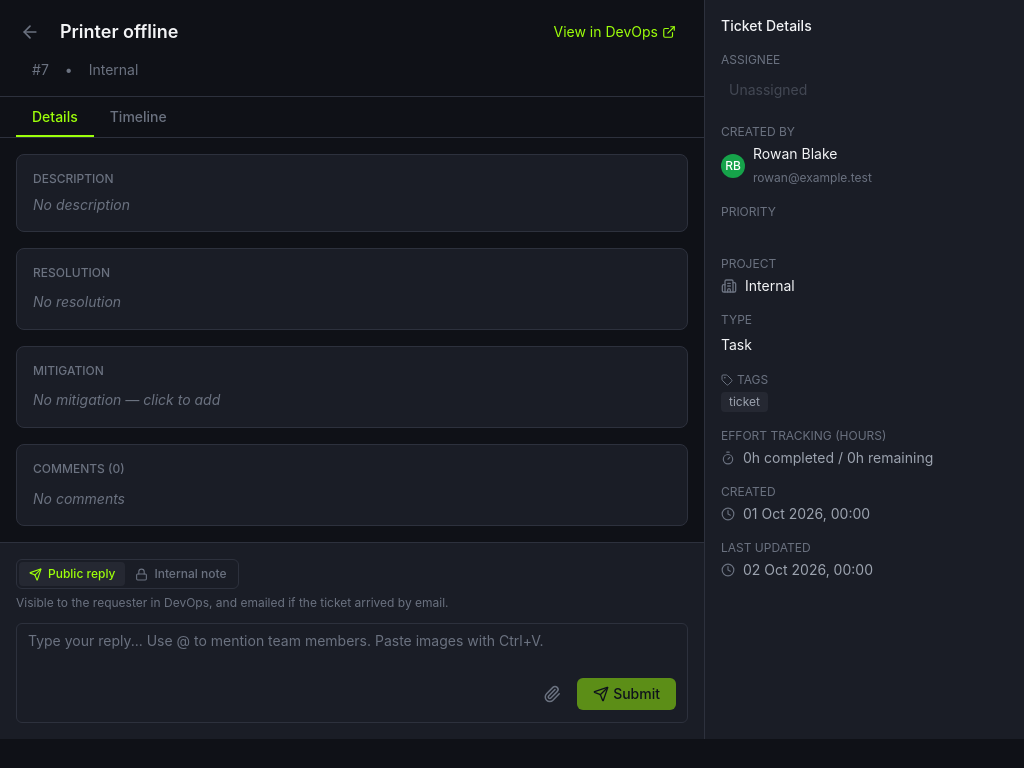
Test: timeline attribution of an emailed ticket › leaves a ticket raised in the app alone
This screenshot has width=1024, height=768.
Step 1. Click the button "Timeline" → coordinates (138, 117), box [94,97,183,137]
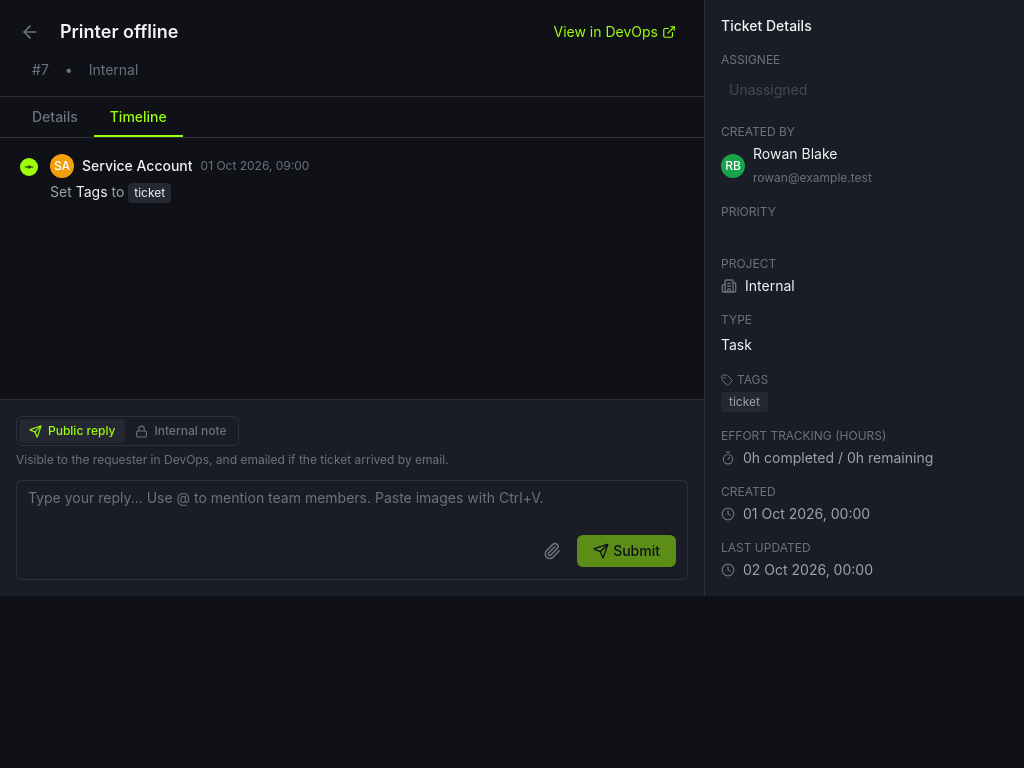
Result: the text "Service Account" is shown at [82,156,193,176]
